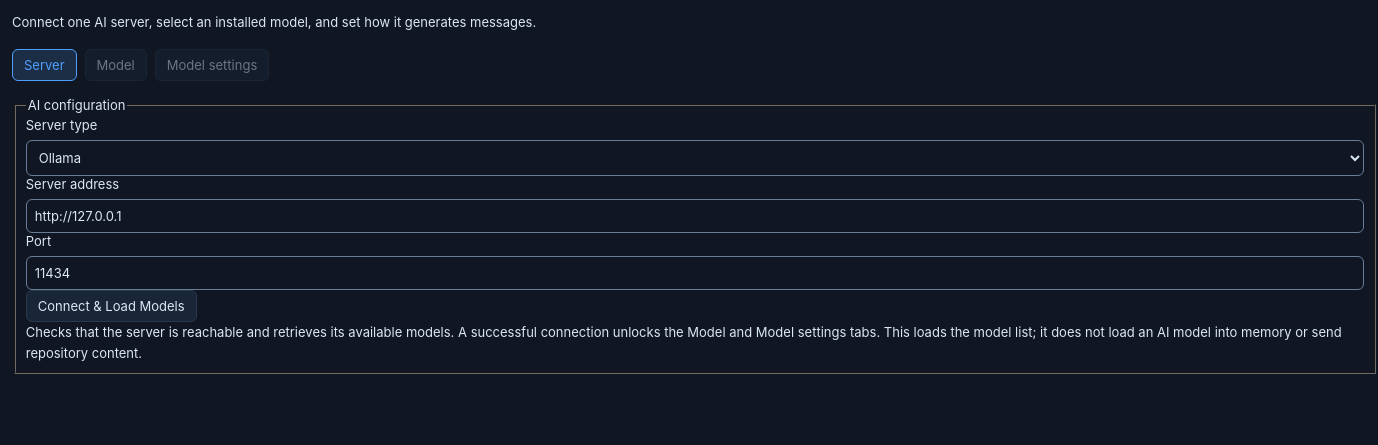
Test: reports an automatic save failure and refuses a successful close flush
This screenshot has width=1378, height=445.
Step 1. Replace the text in the number field labelled "Port" with "11435" → (695, 273), box x1=26 y1=256 x2=1364 y2=290
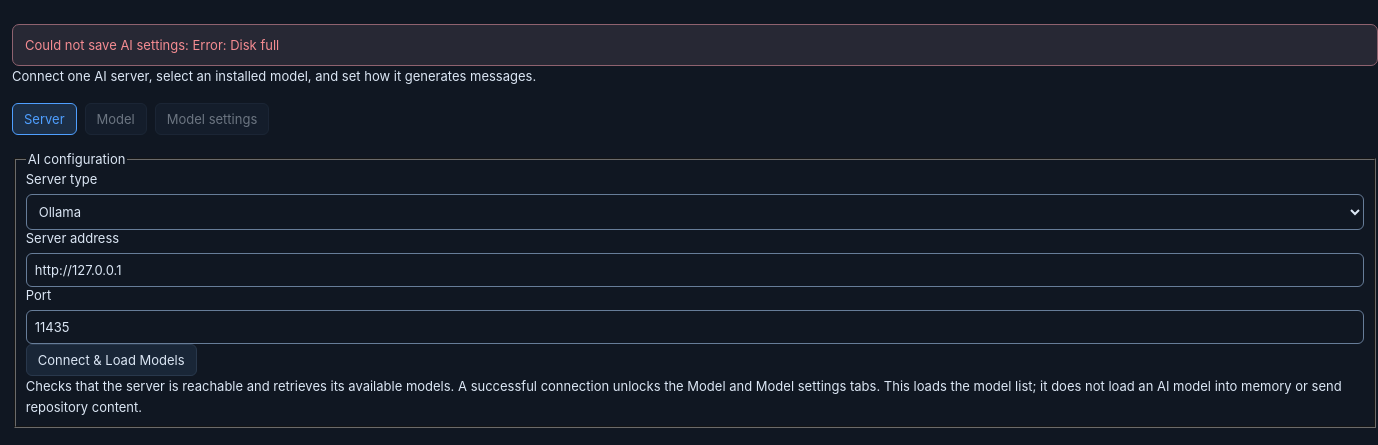
Expected: the message reads "Could not save AI settings: Error: Disk full", x1=25 y1=37 x2=279 y2=53
